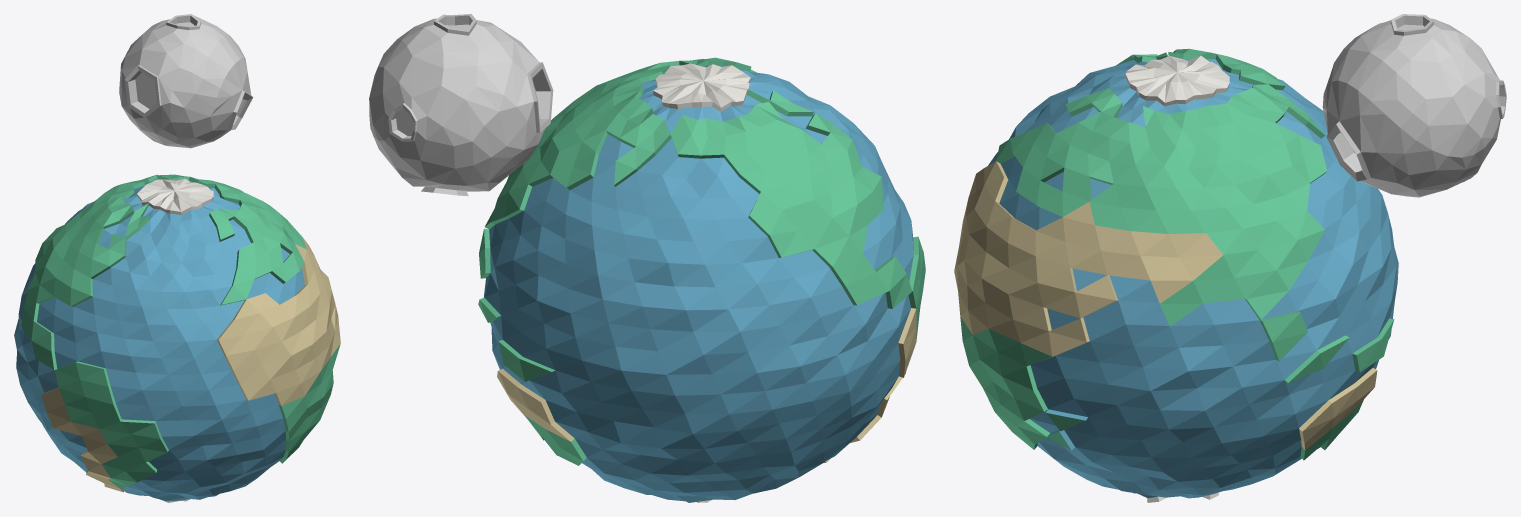
The model's file is Dunya.fbx.
3 views of the same model, side by side, from view 1: azimuth 30°, elevation 25°; view 2: azimuth 150°, elevation 25°; view 3: azimuth 270°, elevation 25° (orthographic). The views are drawn at different scales.
Visible parts, largest first — view 1: dunya, pSphere28; view 2: dunya, pSphere28; view 3: dunya, pSphere28.
Boxes of the visible parts, x1,y1,x2,y2 form: dunya: (14, 174, 340, 502); pSphere28: (119, 14, 252, 148); dunya: (478, 57, 925, 502); pSphere28: (369, 14, 553, 196); dunya: (954, 48, 1398, 502); pSphere28: (1322, 14, 1506, 197).
Bounding box in the file's own units: 2.15 × 2.7 × 2.57.
